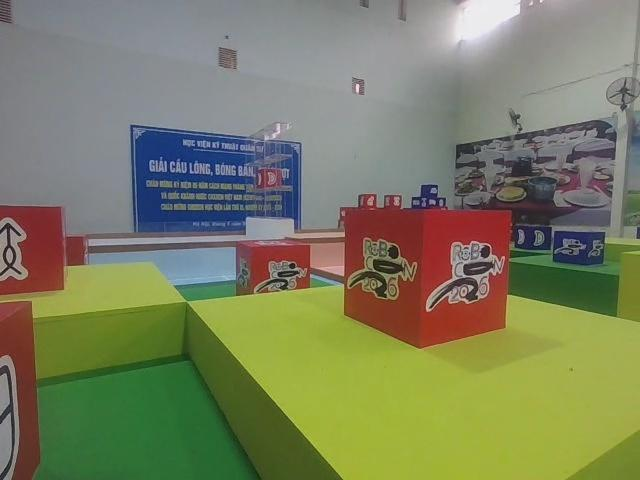R1: (339, 203, 514, 352), (231, 237, 314, 304)
R2 Real: (0, 201, 69, 299)
